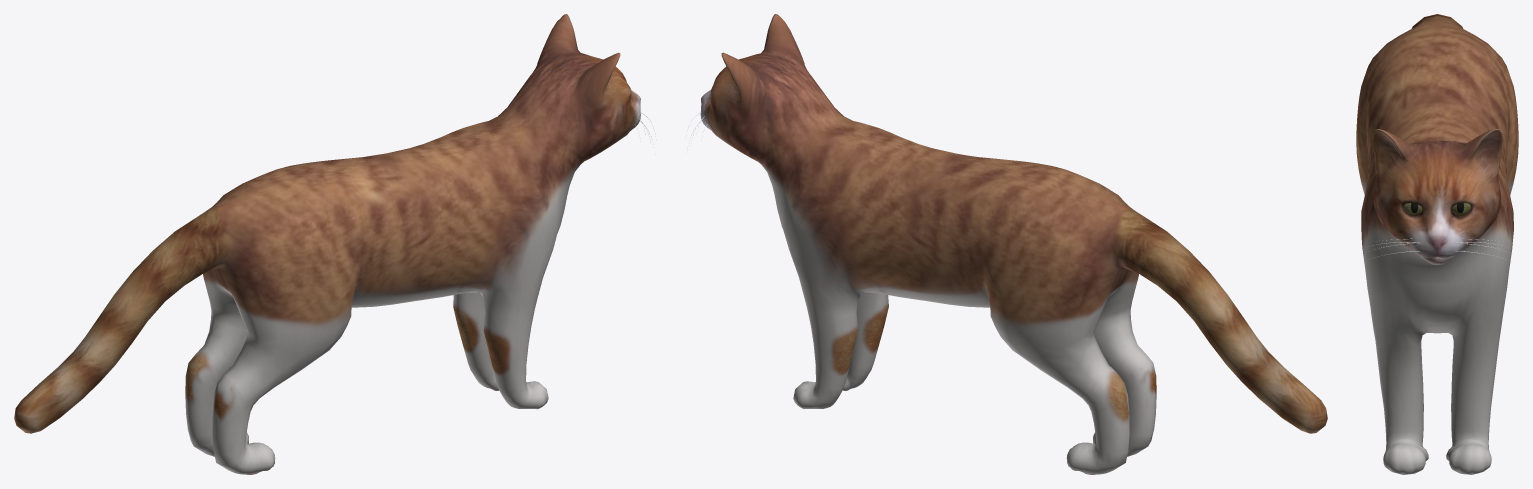
Rendered from Cymric(LonghairedManx).glb.
3 views of the same model, side by side, from view 1: azimuth 30°, elevation 25°; view 2: azimuth 150°, elevation 25°; view 3: azimuth 270°, elevation 25° (orthographic). The views are drawn at different scales.
Visible parts, largest first — view 1: high_poly; view 2: high_poly; view 3: high_poly, eye2, eye2.001.
Boxes of the visible parts, box(x1,y1,x2,y2) form: high_poly: box(14, 14, 640, 474); high_poly: box(700, 14, 1327, 474); high_poly: box(1356, 14, 1518, 474); eye2: box(1403, 203, 1470, 214); eye2.001: box(1372, 238, 1502, 258).
Size of the model in its own units: 4.46 by 2.35 by 0.8994.
3 materials, 2 textured.
